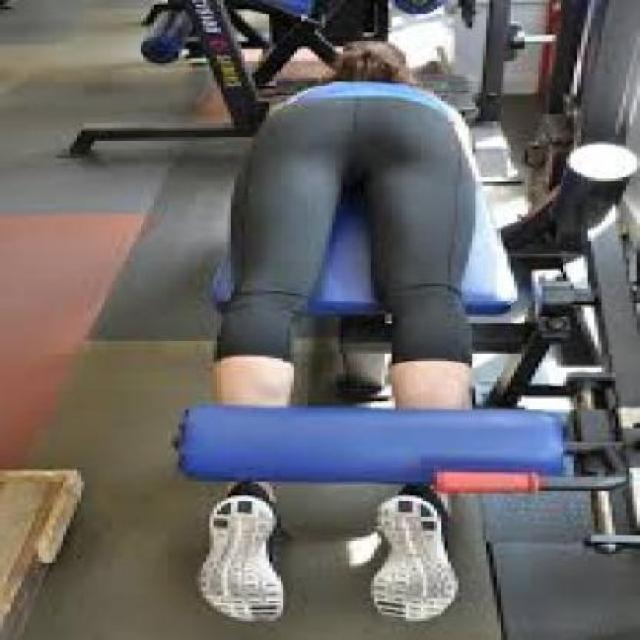reg curl machine: (172, 28, 536, 626)
